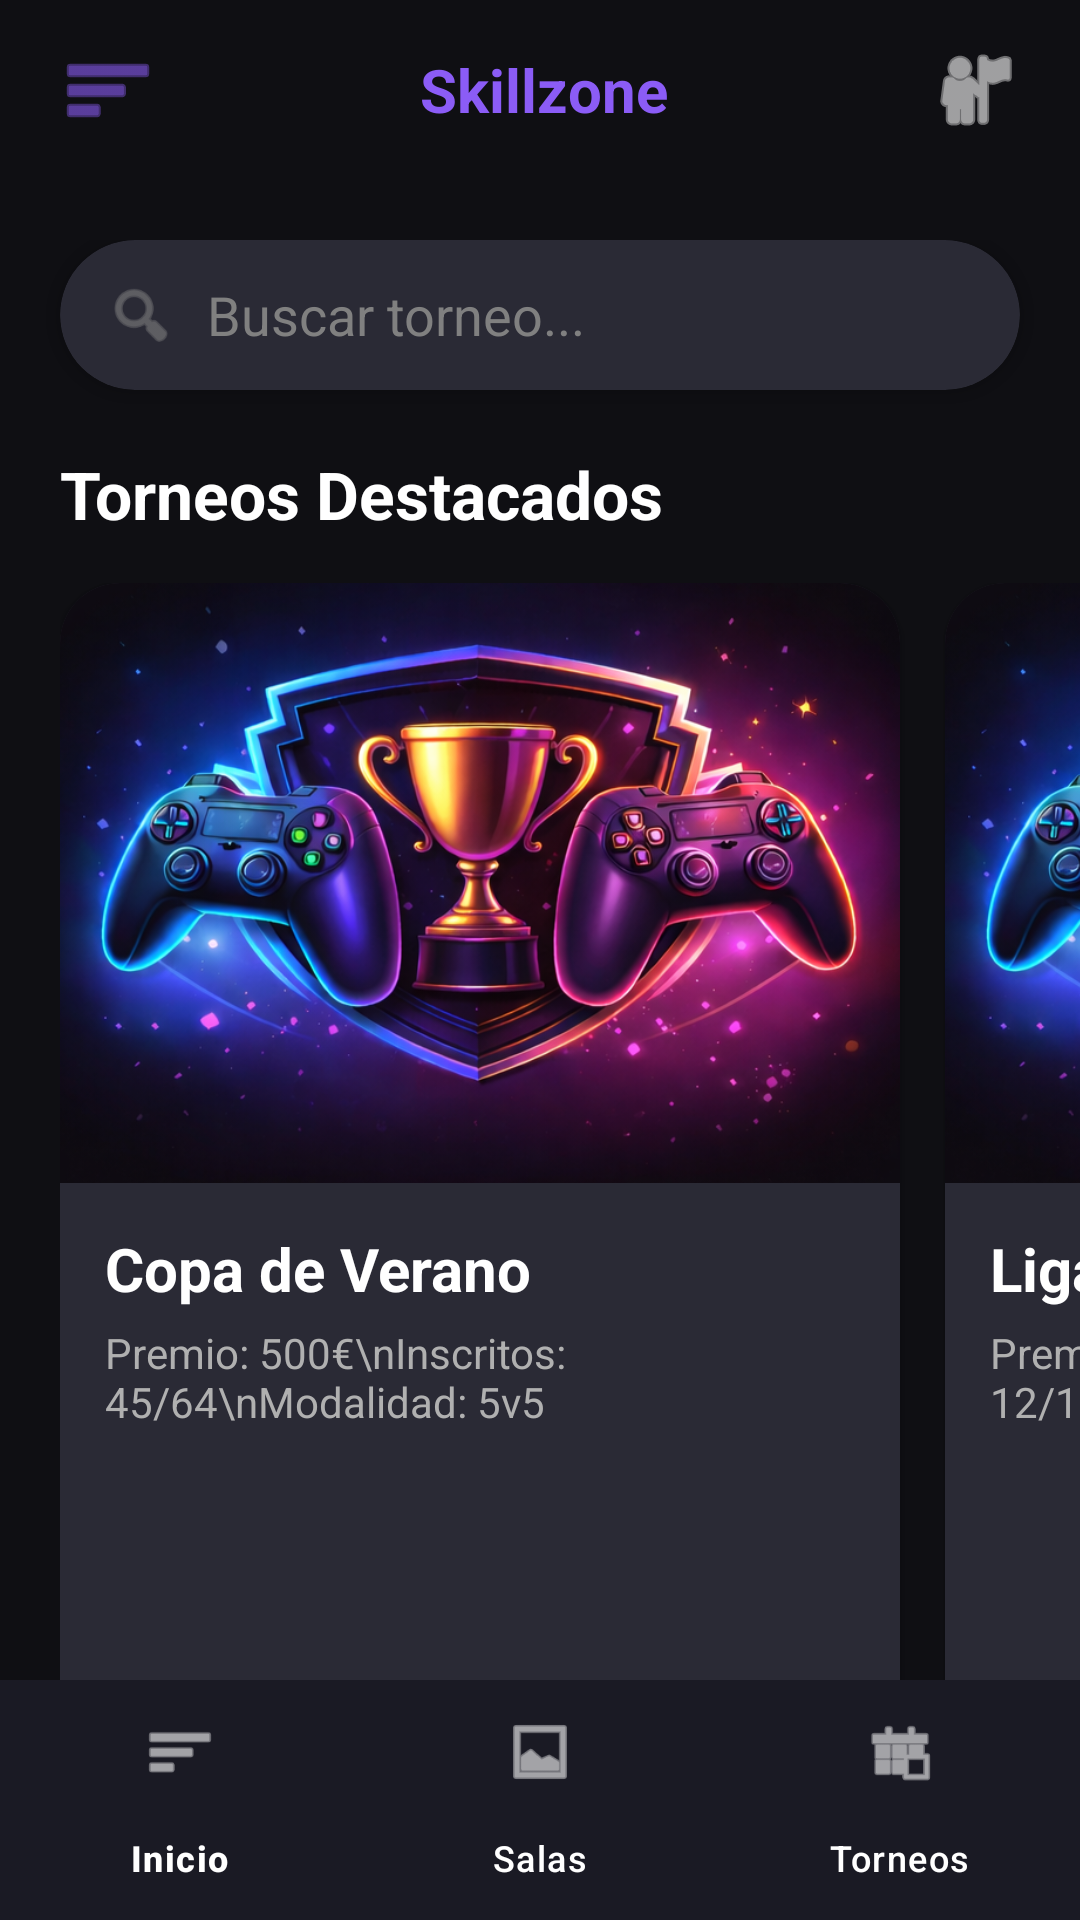

Point at icon controls on the screen. Image size 1080px×1920px, points as [x,y].
myplaces: [976,90]
search: [141,315]
sort by size: [108,90]
